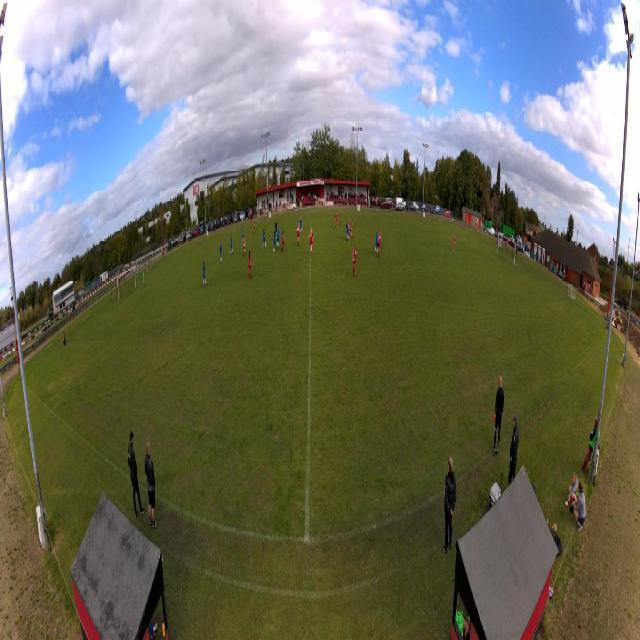player: (352, 242, 358, 278), (308, 227, 315, 256), (348, 218, 354, 243), (262, 227, 268, 251), (374, 230, 379, 257), (296, 222, 301, 248), (248, 249, 252, 280), (203, 260, 207, 289), (378, 230, 382, 259), (345, 220, 350, 242), (299, 215, 304, 236), (243, 234, 247, 260), (276, 226, 280, 251), (219, 242, 223, 266), (273, 230, 277, 254), (281, 229, 285, 253), (230, 234, 234, 256), (335, 212, 339, 231), (453, 232, 456, 252), (143, 270, 146, 290), (241, 226, 244, 244), (253, 217, 256, 234), (275, 219, 278, 235)
